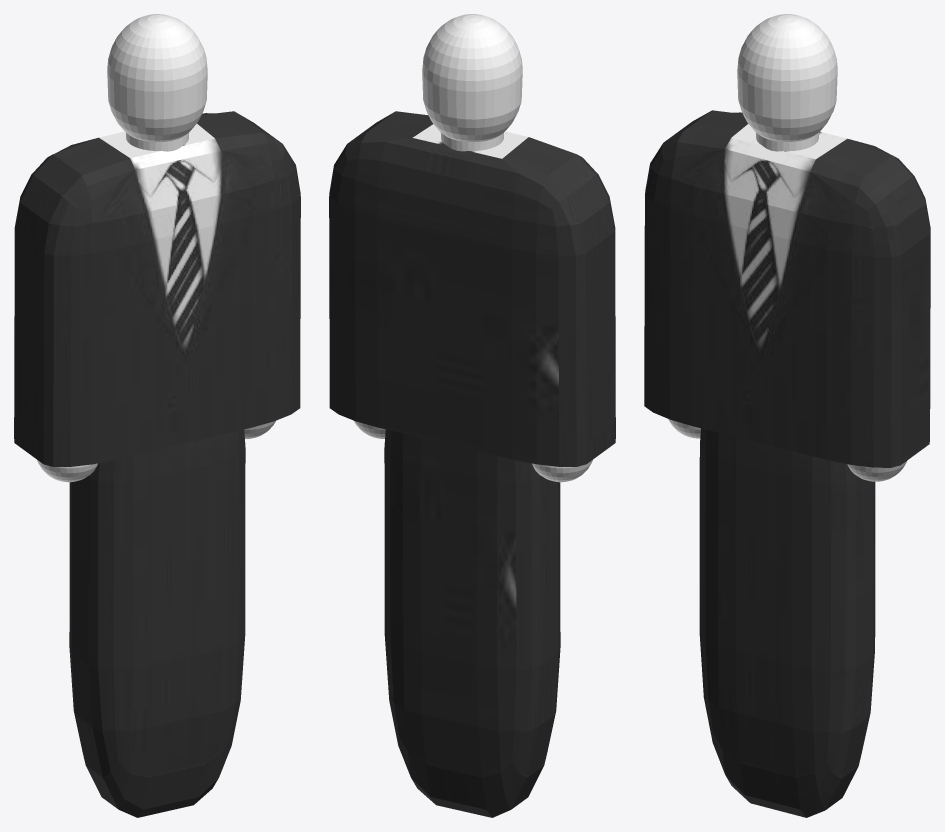
The model's file is simsuit.glb.
3 views of the same model, side by side, from view 1: azimuth 30°, elevation 25°; view 2: azimuth 150°, elevation 25°; view 3: azimuth 330°, elevation 25° (orthographic).
Visible parts, largest first — view 1: Cube, Cube.001, Sphere, hand, neck; view 2: Cube, Cube.001, Sphere, hand, neck; view 3: Cube, Cube.001, Sphere, hand.001, neck.
Boxes of the visible parts, x1,y1,x2,y2 form: Cube: (14, 111, 300, 466); Cube.001: (69, 429, 245, 817); Sphere: (107, 14, 207, 142); hand: (37, 460, 97, 482); neck: (126, 132, 189, 151); Cube: (329, 111, 615, 466); Cube.001: (384, 429, 560, 817); Sphere: (422, 14, 522, 142); hand: (532, 460, 592, 482); neck: (440, 132, 503, 151); Cube: (644, 110, 930, 467); Cube.001: (699, 428, 875, 817); Sphere: (737, 14, 837, 141); hand.001: (847, 460, 907, 481); neck: (756, 132, 818, 151).
Size of the model in its own units: 3.31 by 9.68 by 1.23.
Materials: 2 (1 with a texture image).
